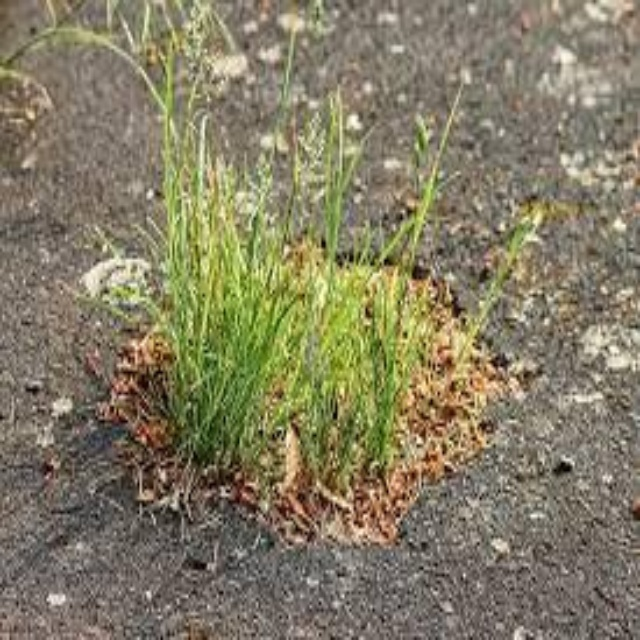pothole: (151, 224, 500, 511)
